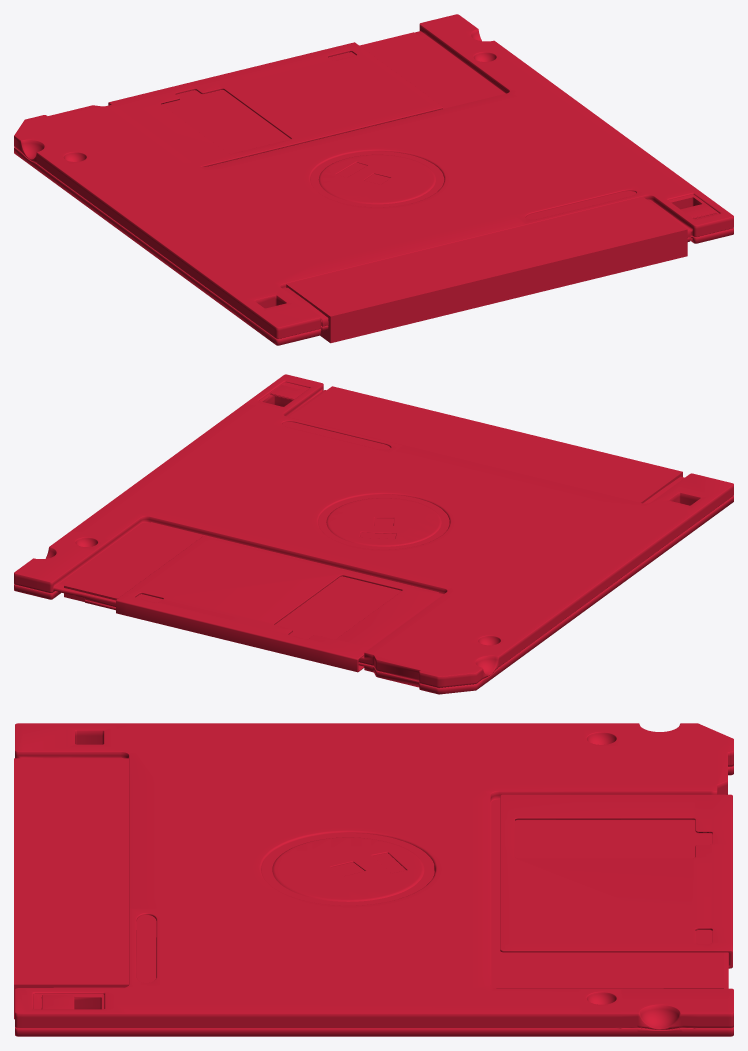
Rendered from obfloopy.fbx.
The picture shows the model from 3 angles, top to bottom: view 1: azimuth 30°, elevation 25°; view 2: azimuth 150°, elevation 25°; view 3: azimuth 270°, elevation 25°; orthographic projection. The views are drawn at different scales.
Parts seen in each view (by area): view 1: Cube; view 2: Cube; view 3: Cube.
Boxes of the visible parts, x1,y1,x2,y2 form: Cube: (14, 14, 733, 345); Cube: (14, 374, 733, 694); Cube: (14, 723, 733, 1036).
Size of the model in its own units: 236 by 13.75 by 248.
